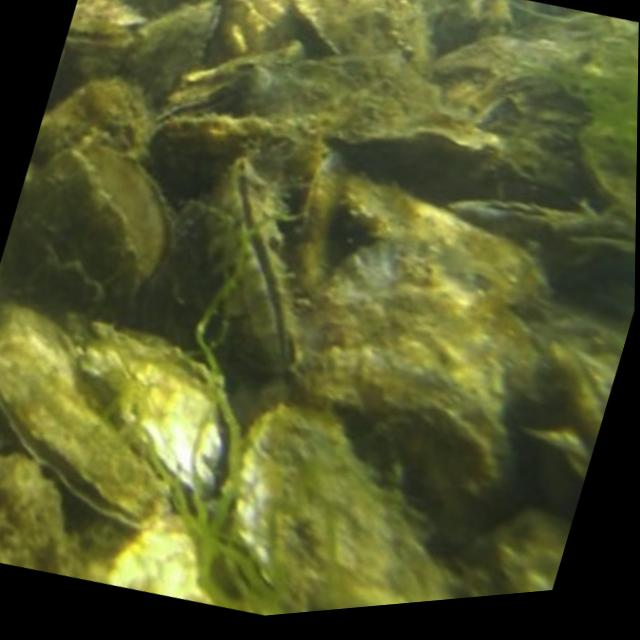Oyster-Closed: (0, 309, 172, 531), (203, 156, 300, 372), (83, 151, 175, 289), (124, 3, 225, 108), (0, 457, 70, 575), (153, 65, 281, 120), (458, 201, 620, 231), (63, 9, 132, 51)
Oyster-Indeterminate: (305, 241, 544, 417), (283, 354, 510, 524), (231, 412, 422, 595), (343, 176, 545, 309), (86, 330, 226, 495), (10, 153, 134, 324), (148, 115, 327, 206), (299, 0, 436, 73), (29, 79, 138, 164), (298, 150, 347, 295)
